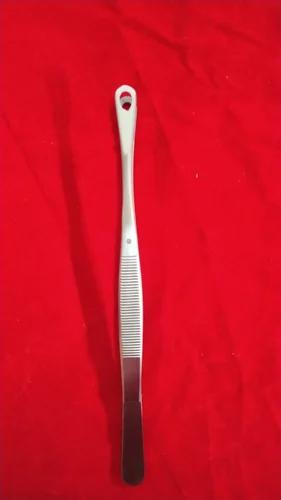Eye Intestinal Forceps: (106, 82, 157, 486)
